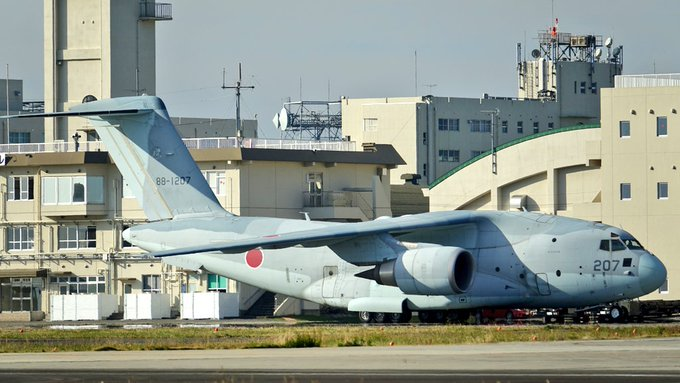airplane: (1, 92, 666, 323)
